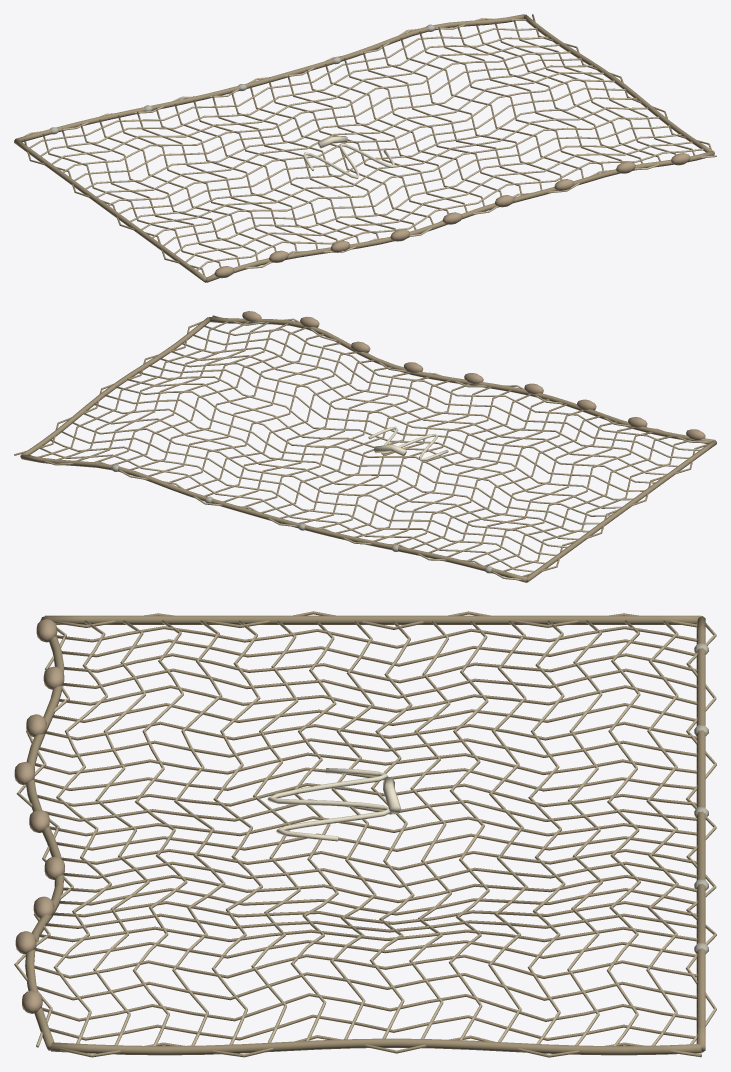
File: SM_NetPrepared.fbx
The picture shows the model from 3 angles, top to bottom: view 1: azimuth 30°, elevation 25°; view 2: azimuth 150°, elevation 25°; view 3: azimuth 270°, elevation 25°; orthographic projection. The views are drawn at different scales.
Parts seen in each view (by area): view 1: SM_NetPrepared; view 2: SM_NetPrepared; view 3: SM_NetPrepared.
Boxes of the visible parts, x1,y1,x2,y2 form: SM_NetPrepared: (14, 14, 716, 282); SM_NetPrepared: (14, 311, 716, 582); SM_NetPrepared: (14, 611, 716, 1057).
Bounding box in the file's own units: 243 × 163 × 11.35.
